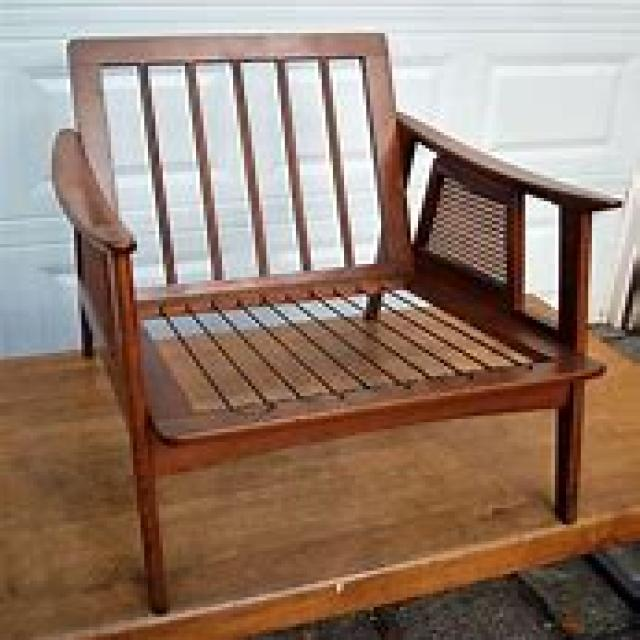chair: (48, 29, 622, 614)
